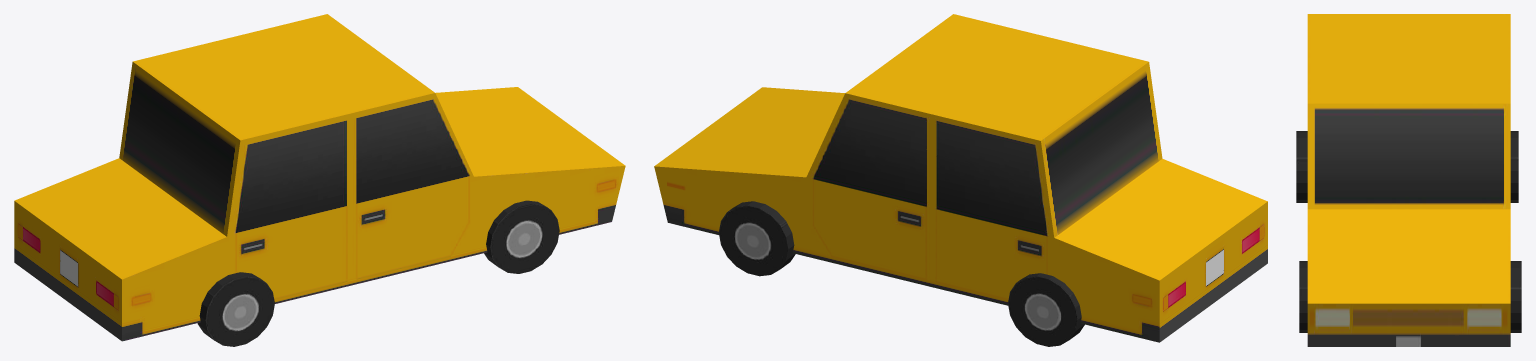
Rendered from car.gltf.
3 views of the same model, side by side, from view 1: azimuth 30°, elevation 25°; view 2: azimuth 150°, elevation 25°; view 3: azimuth 270°, elevation 25° (orthographic). The views are drawn at different scales.
Parts seen in each view (by area): view 1: Car_04; view 2: Car_04; view 3: Car_04.
Part boxes in pixels (<box>): Car_04: <box>14,14,625,346</box>; Car_04: <box>654,14,1267,346</box>; Car_04: <box>1296,14,1521,346</box>.
Bounding box in the file's own units: 0.7654 × 0.2893 × 0.3151.
Materials: 1 (1 with a texture image).
